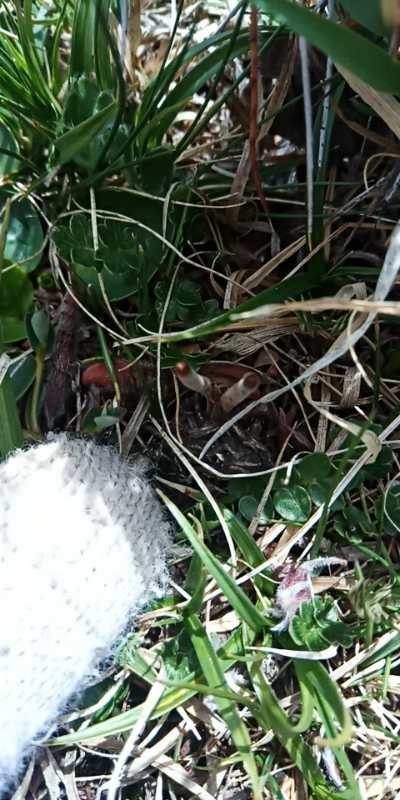Chongcao: (219, 371, 261, 413), (174, 362, 216, 395)
